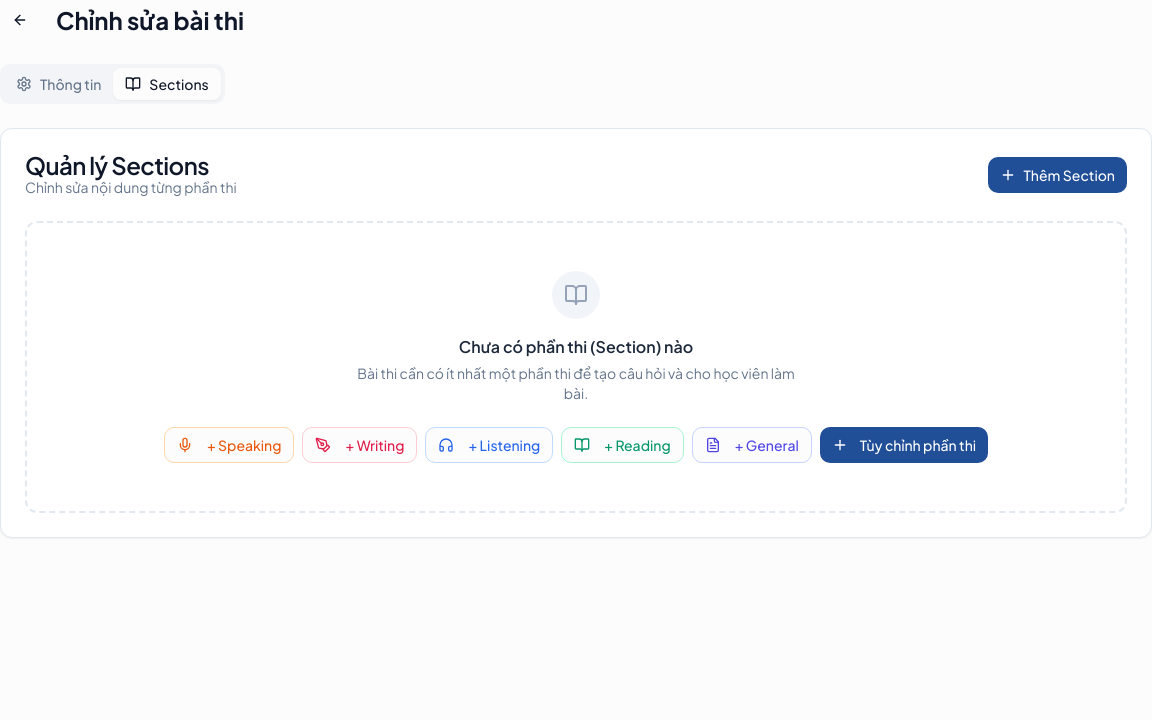
it: 🏛️ Journey 1: Admin Exam & Section Management Integration › Step 7: Renders all 5 section types including General in empty state quick-add buttons
The image size is (1152, 720).
Expected: the heading "Chưa có phần thi (Section) nào" is shown, [459, 336, 693, 357]
Expected: the button "+ Speaking" is shown, [164, 427, 294, 463]
// Click "+ General"
Step 1. Click the button "+ General" → (752, 445), box [692, 427, 812, 463]
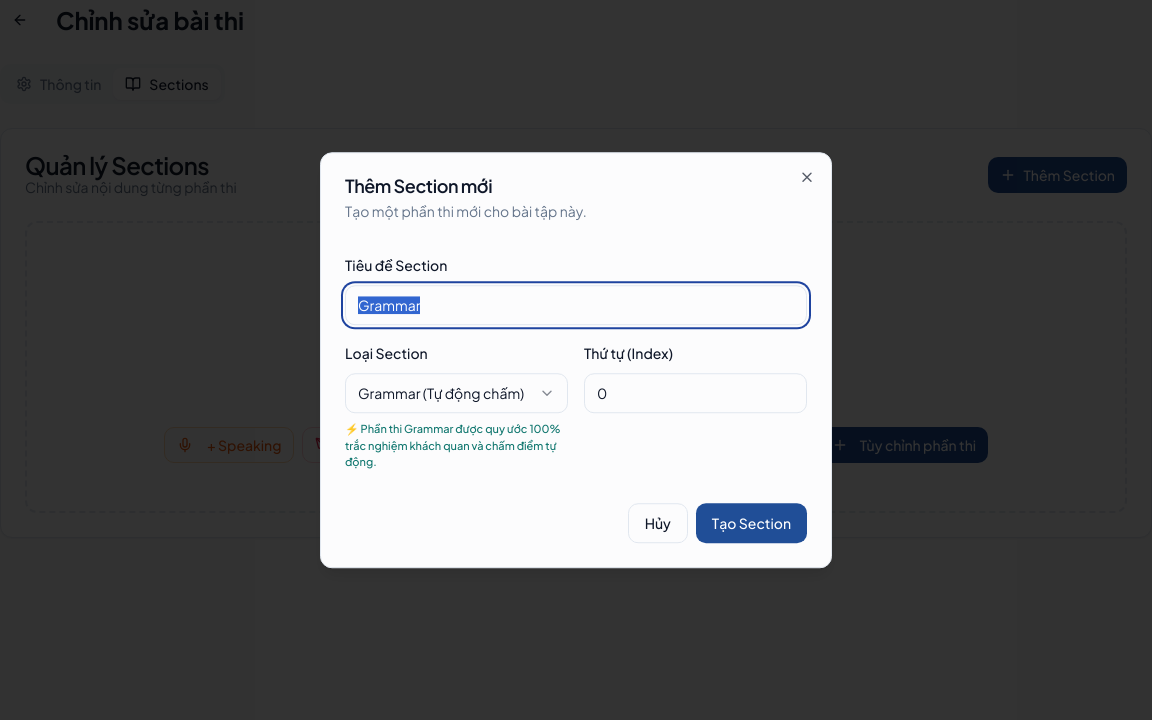
Result: the heading "Thêm Section mới" is shown at [345, 174, 492, 197]
Result: the field showing "Grammar" is shown at [345, 285, 807, 325]
